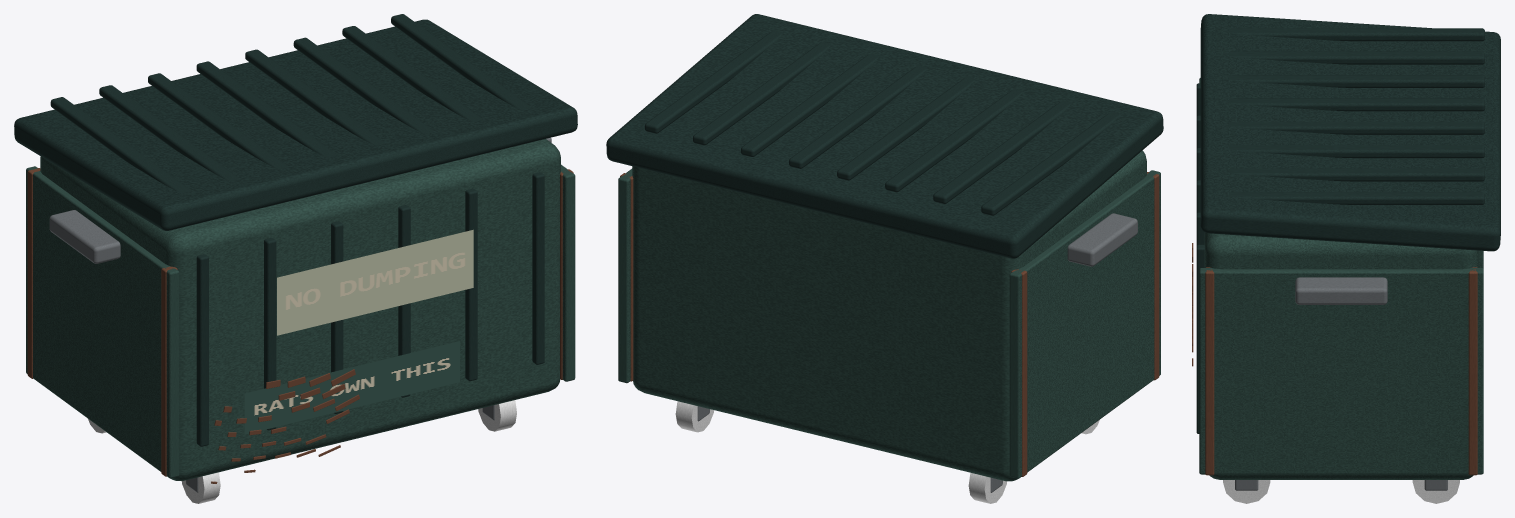
File: dumpster.glb
3 renders of one model, left to right at view 1: azimuth 30°, elevation 25°; view 2: azimuth 150°, elevation 25°; view 3: azimuth 270°, elevation 25°, orthographic.
Parts seen in each view (by area): view 1: back-alley-dumpster, steel-bin, ribbed-lid, lifting-lug; view 2: steel-bin, ribbed-lid, back-alley-dumpster, lifting-lug; view 3: back-alley-dumpster, ribbed-lid, steel-bin, lifting-lug.
Boxes of the visible parts, x1,y1,x2,y2 form: back-alley-dumpster: (26,14,575,503); steel-bin: (40,139,560,480); ribbed-lid: (14,19,577,230); lifting-lug: (49,210,120,263); steel-bin: (632,150,1146,481); ribbed-lid: (606,14,1163,258); back-alley-dumpster: (618,30,1160,503); lifting-lug: (1067,213,1137,266); back-alley-dumpster: (1192,28,1484,503); ribbed-lid: (1200,14,1500,251); steel-bin: (1204,233,1478,479); lifting-lug: (1295,277,1387,304).
Bounding box in the file's own units: 1.98 × 1.33 × 1.17.
7 materials, 7 textured.
